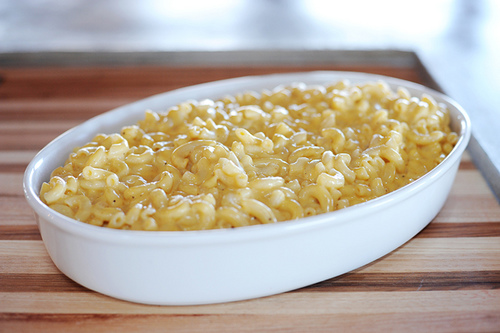macncheese: (39, 80, 459, 236)
